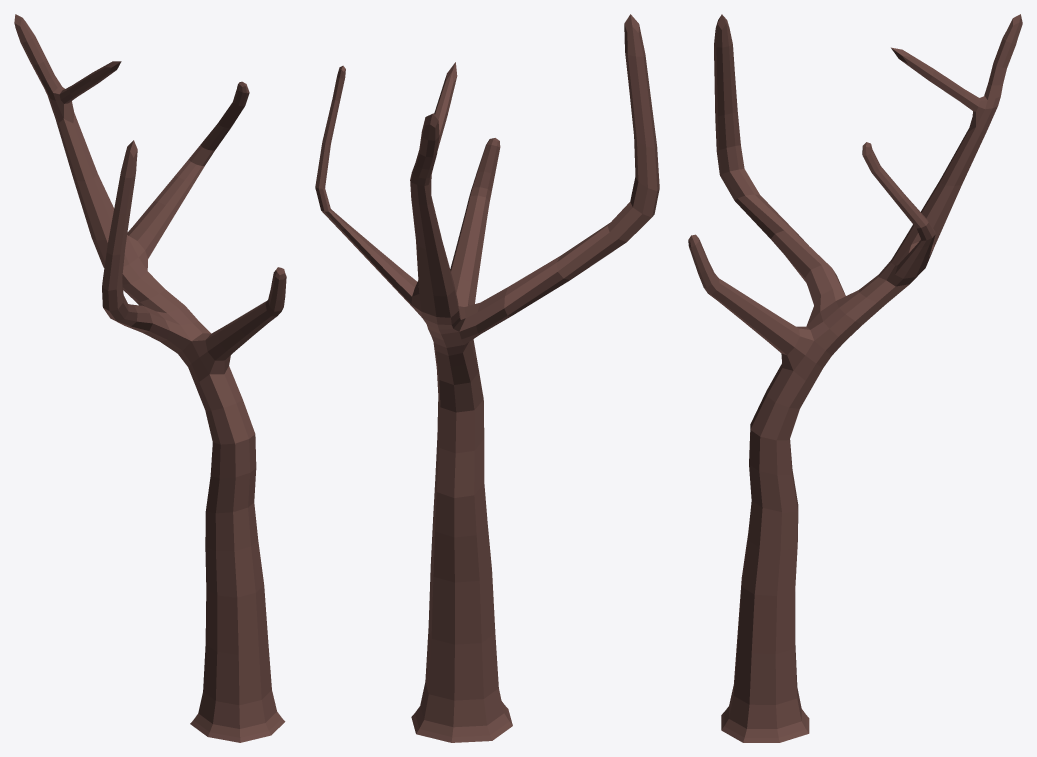
File: commontree_dead_4.glb
The picture shows the model from 3 angles, left to right: view 1: azimuth 30°, elevation 25°; view 2: azimuth 150°, elevation 25°; view 3: azimuth 270°, elevation 25°; orthographic projection. The views are drawn at different scales.
Parts seen in each view (by area): view 1: CommonTree_Dead_4; view 2: CommonTree_Dead_4; view 3: CommonTree_Dead_4.
Boxes of the visible parts, x1,y1,x2,y2 form: CommonTree_Dead_4: (14,14,286,742); CommonTree_Dead_4: (315,14,659,742); CommonTree_Dead_4: (688,14,1022,742).
Bounding box in the file's own units: 1.96 × 5.69 × 2.6.
